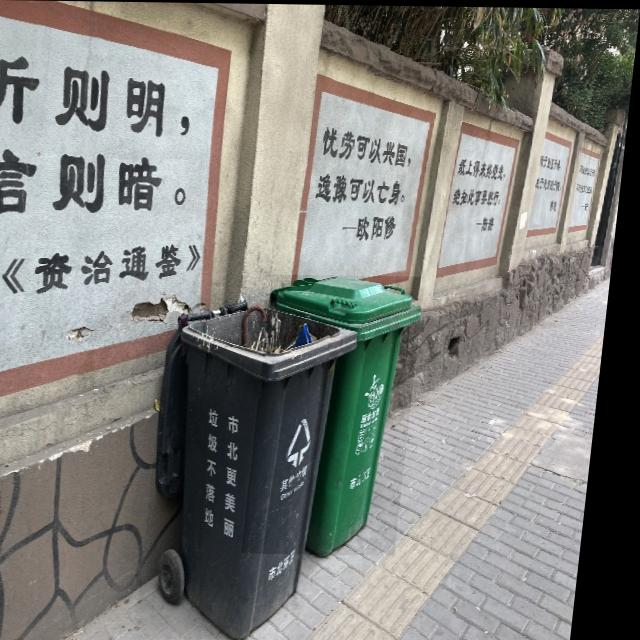garbage_bin: (149, 297, 369, 640), (254, 274, 431, 554)
